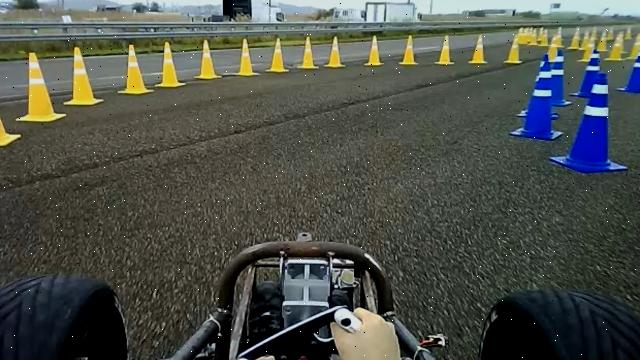blue cone: (549, 82, 628, 172), (516, 66, 554, 140), (569, 48, 608, 98), (551, 49, 572, 106), (616, 44, 640, 93)
yellow cone: (15, 52, 67, 122), (64, 46, 104, 106), (118, 43, 154, 95), (155, 41, 186, 88), (0, 91, 22, 147), (194, 38, 222, 80), (237, 38, 260, 76), (266, 37, 290, 73), (296, 36, 319, 69), (324, 35, 346, 68), (364, 34, 384, 66)
